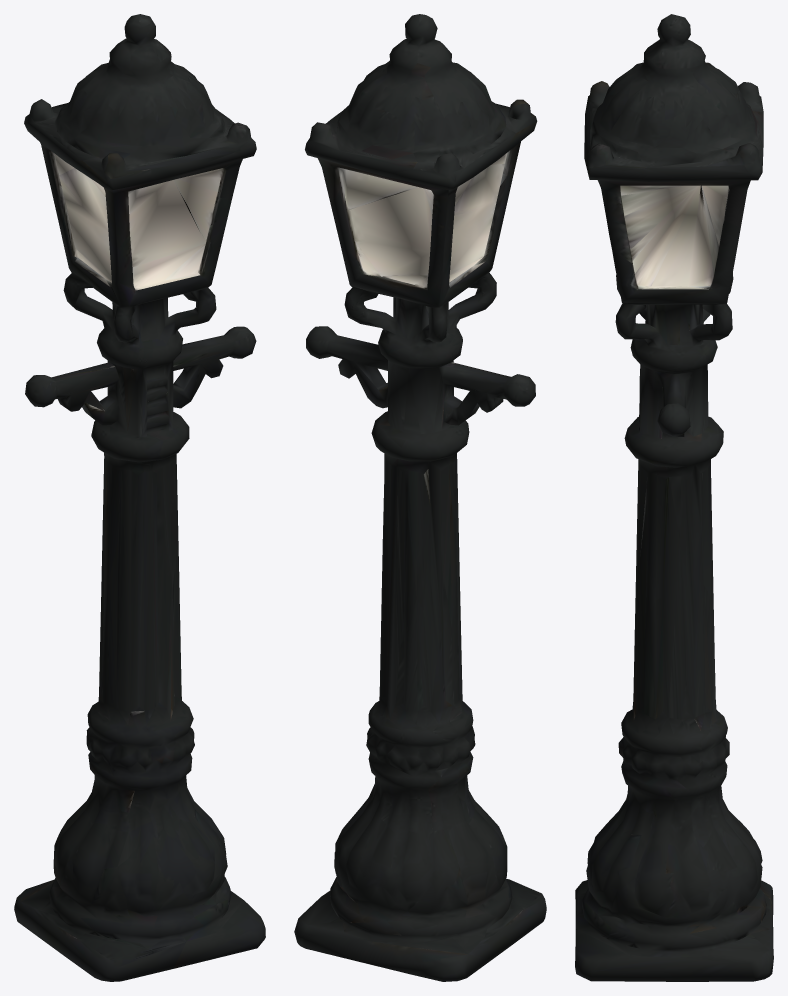
Rendered from streetLamp.glb.
3 renders of one model, left to right at view 1: azimuth 30°, elevation 25°; view 2: azimuth 150°, elevation 25°; view 3: azimuth 270°, elevation 25°, orthographic.
Parts seen in each view (by area): view 1: Mesh_0; view 2: Mesh_0; view 3: Mesh_0.
Part boxes in pixels (x1,y1,x2,y2): Mesh_0: [14, 14, 265, 981]; Mesh_0: [294, 14, 546, 981]; Mesh_0: [575, 14, 773, 981].
Bounding box in the file's own units: 0.8816 × 3.4 × 0.6625.
1 material, 1 textured.
